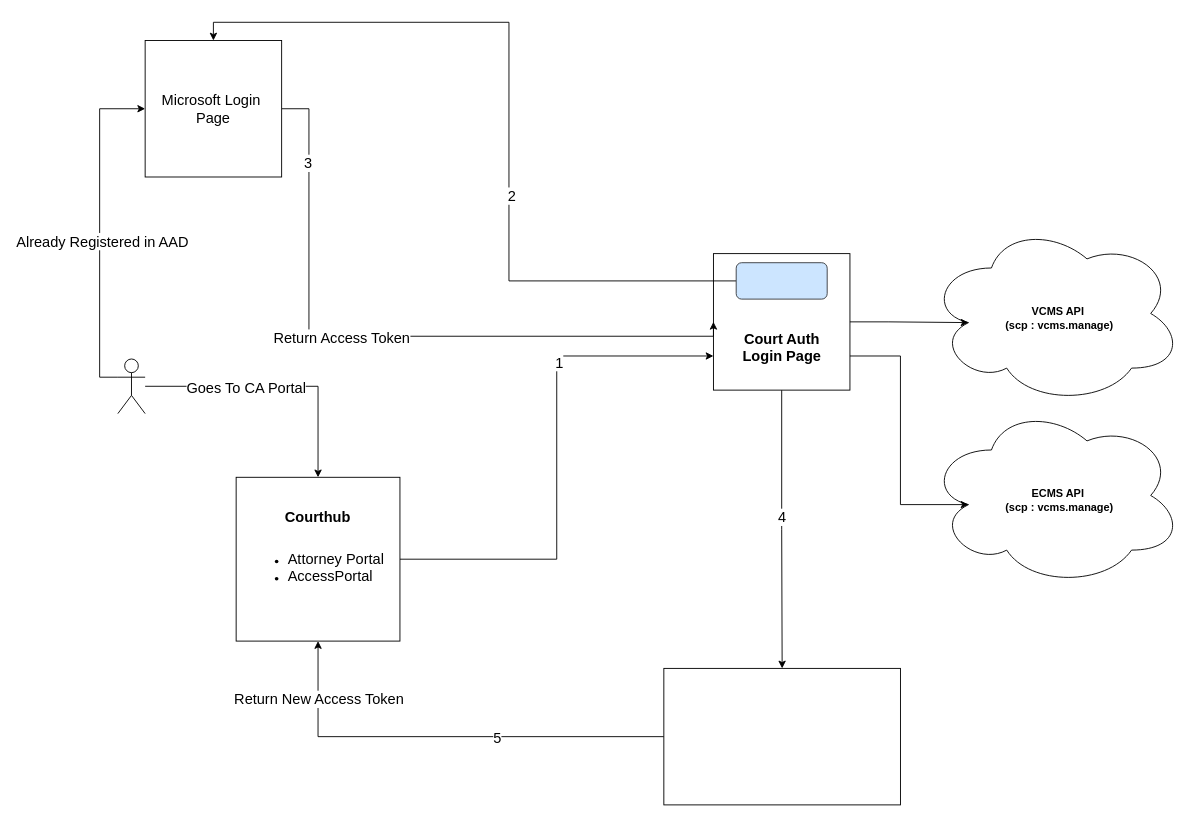
Some shapes in this 1198 by 821 pixel diagram are drawn without their labels. Here are the shapes that lost their labels. From the top down, the centre of each, then its label:
the point at 781,280: AAD Login
the point at 131,386: Actor
the point at 781,736: Adding custom permission Create new Access Token Refresh Token Id Token
